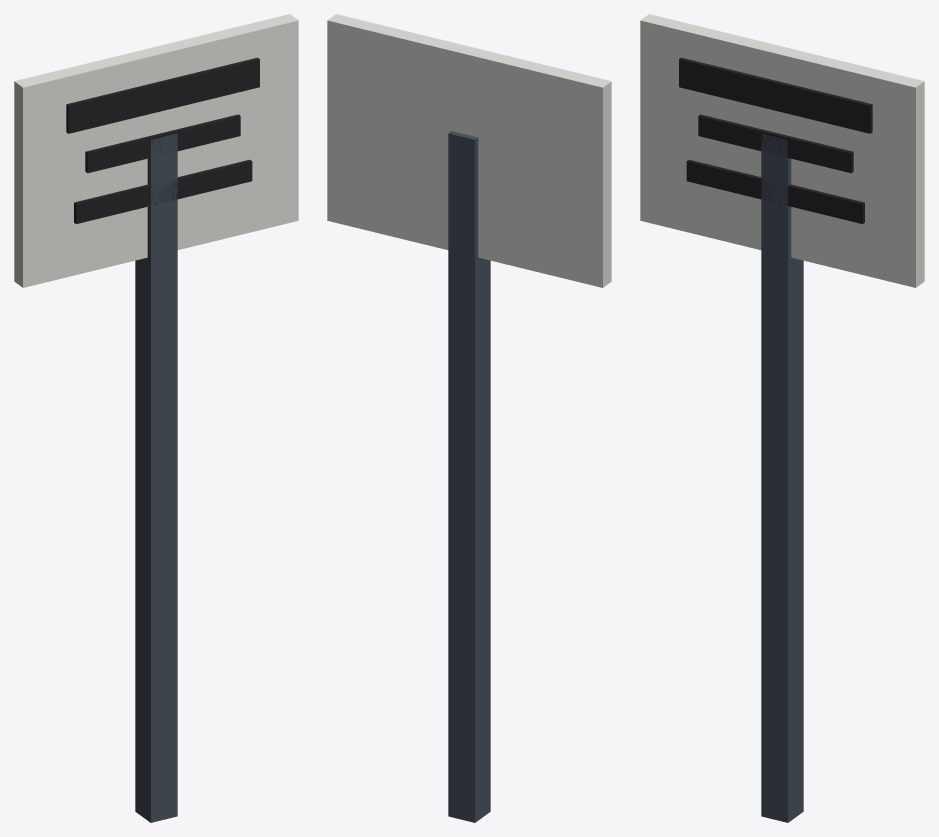
Rendered from sign_01.glb.
3 views of the same model, side by side, from view 1: azimuth 30°, elevation 25°; view 2: azimuth 150°, elevation 25°; view 3: azimuth 330°, elevation 25° (orthographic).
Visible parts, largest first — view 1: sign_01; view 2: sign_01; view 3: sign_01.
Part boxes in pixels (x1,y1,x2,y2): sign_01: (14, 14, 298, 822); sign_01: (327, 14, 611, 822); sign_01: (640, 14, 924, 822).
Bounding box in the file's own units: 0.72 × 1.91 × 0.07.
